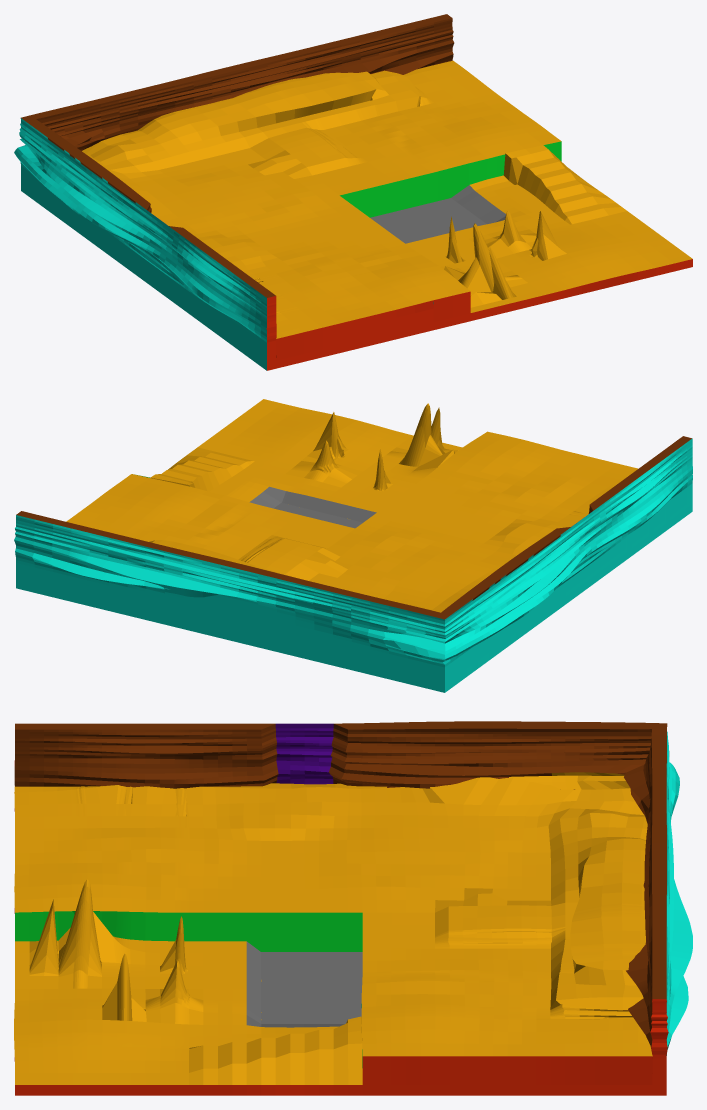
File: plataforma.fbx
3 renders of one model, top to bottom at view 1: azimuth 30°, elevation 25°; view 2: azimuth 150°, elevation 25°; view 3: azimuth 270°, elevation 25°, orthographic. The views are drawn at different scales.
Visible parts, largest first — view 1: Cube; view 2: Cube; view 3: Cube.
Boxes of the visible parts, <box> form: Cube: <box>14,14,692,370</box>; Cube: <box>14,399,692,692</box>; Cube: <box>14,721,692,1095</box>.
Bounding box in the file's own units: 10.75 × 10.74 × 1.72.
